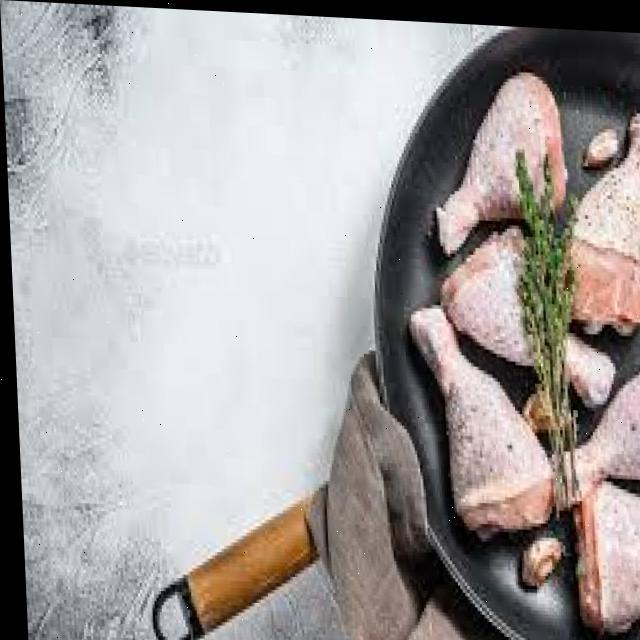leg: (409, 295, 549, 545), (422, 56, 569, 254), (446, 228, 614, 398), (566, 97, 640, 331), (548, 336, 640, 510), (568, 466, 640, 628)
